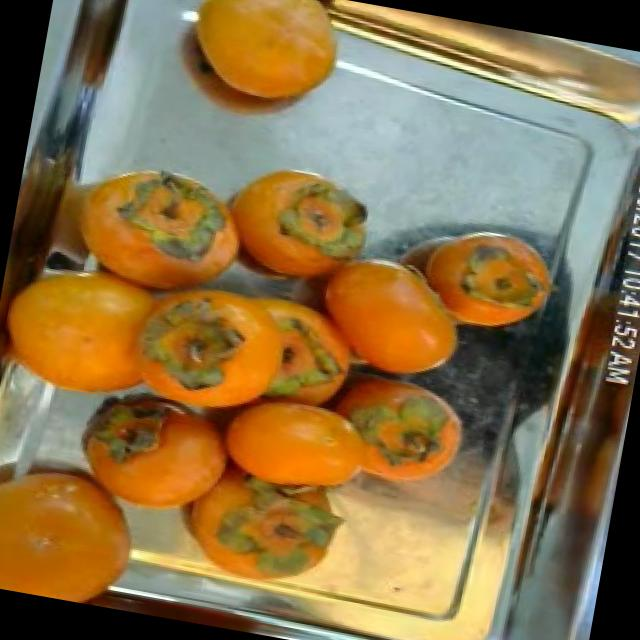Fruit: (197, 146, 396, 311), (297, 231, 494, 395), (152, 0, 360, 144), (392, 202, 564, 347)
